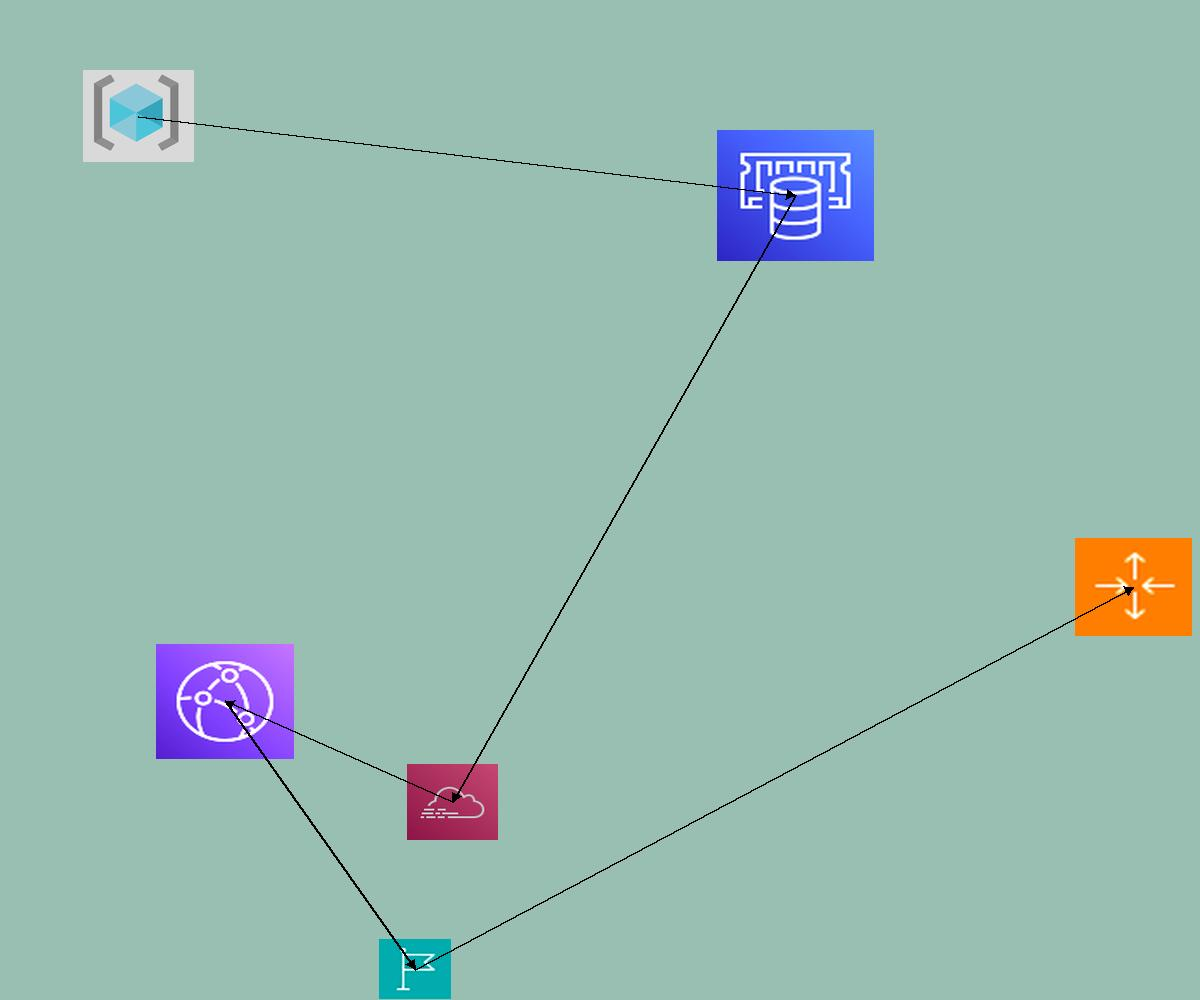AWS-CloudFront: (156, 644, 294, 759)
AWS-CloudTrail: (407, 764, 498, 840)
AWS-ElastiCache: (717, 130, 874, 261)
AWS-Region: (379, 939, 451, 999)
AWS-Scaling-group: (1075, 538, 1192, 636)
Azure_resource_group: (83, 70, 194, 162)
